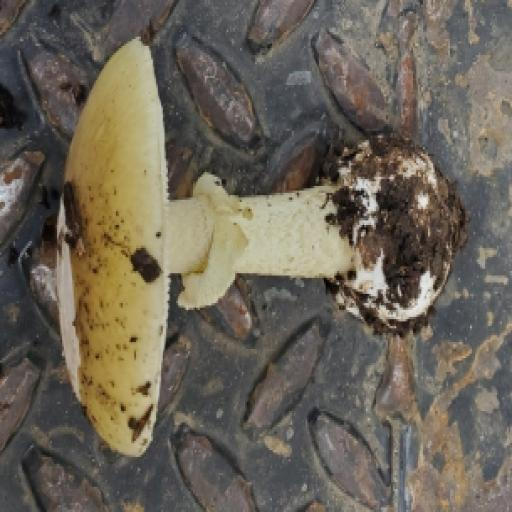mushroom: (0, 30, 489, 512)
